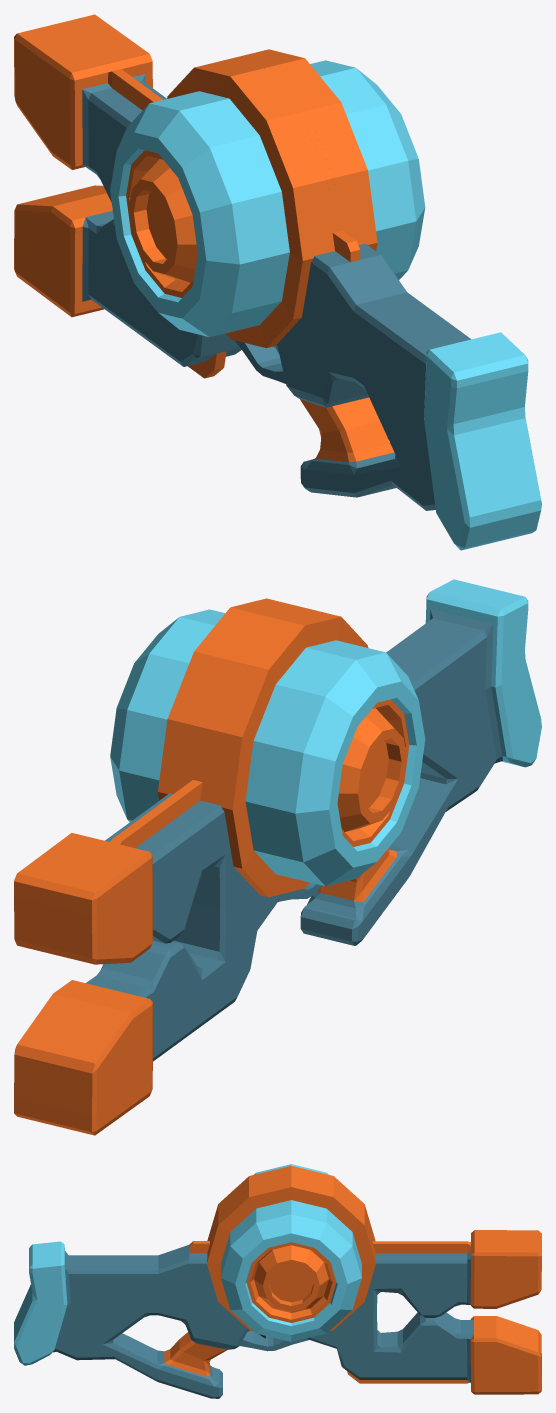
The model's file is LightningGun.glb.
3 views of the same model, one above another, from view 1: azimuth 30°, elevation 25°; view 2: azimuth 150°, elevation 25°; view 3: azimuth 270°, elevation 25° (orthographic). The views are drawn at different scales.
Visible parts, largest first — view 1: Lightning Gun; view 2: Lightning Gun; view 3: Lightning Gun.
Boxes of the visible parts, bbox=[...] form: Lightning Gun: bbox=[14, 14, 541, 550]; Lightning Gun: bbox=[14, 579, 541, 1135]; Lightning Gun: bbox=[14, 1164, 541, 1398].
Bounding box in the file's own units: 1.4 × 2.16 × 4.8.
